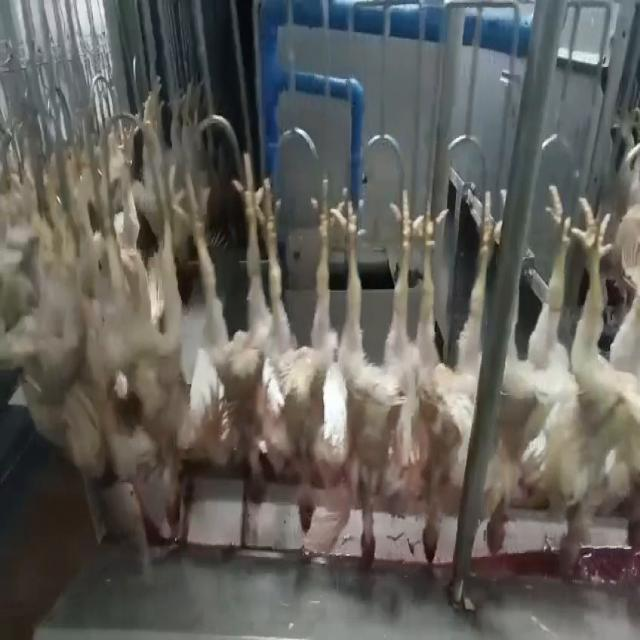chicken: (481, 182, 610, 557), (388, 179, 505, 564), (315, 183, 421, 562), (54, 132, 167, 484), (161, 150, 255, 470), (256, 182, 334, 535), (610, 195, 639, 557)
